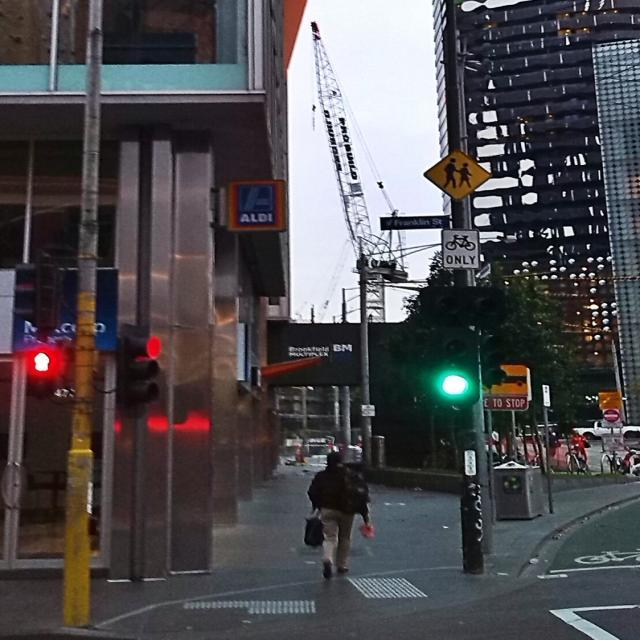off traffic light: (481, 332, 506, 386)
road_sign: (603, 409, 620, 425)
traffic light: (431, 329, 480, 404), (121, 330, 161, 403), (29, 350, 54, 396)
